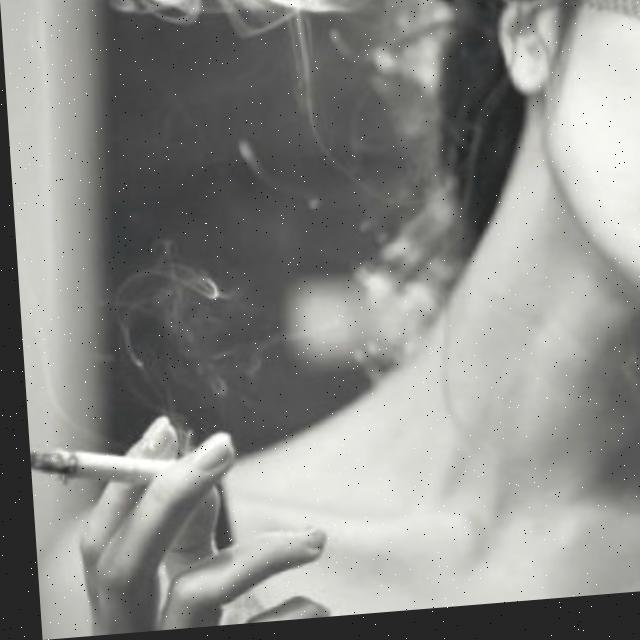cigarette: (24, 440, 171, 492)
